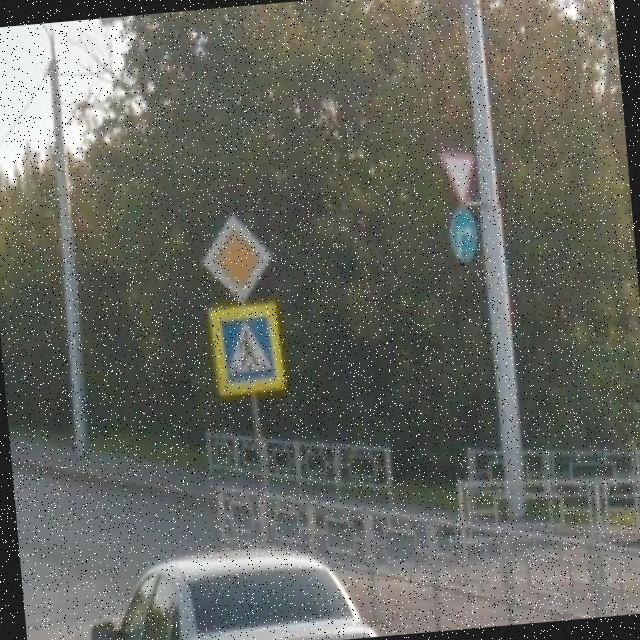Droga z pierwszenstwem: (190, 202, 284, 310)
Przejscie dla pieszych: (207, 302, 285, 399)
Ustap pierwszenstwa: (434, 142, 484, 210)
